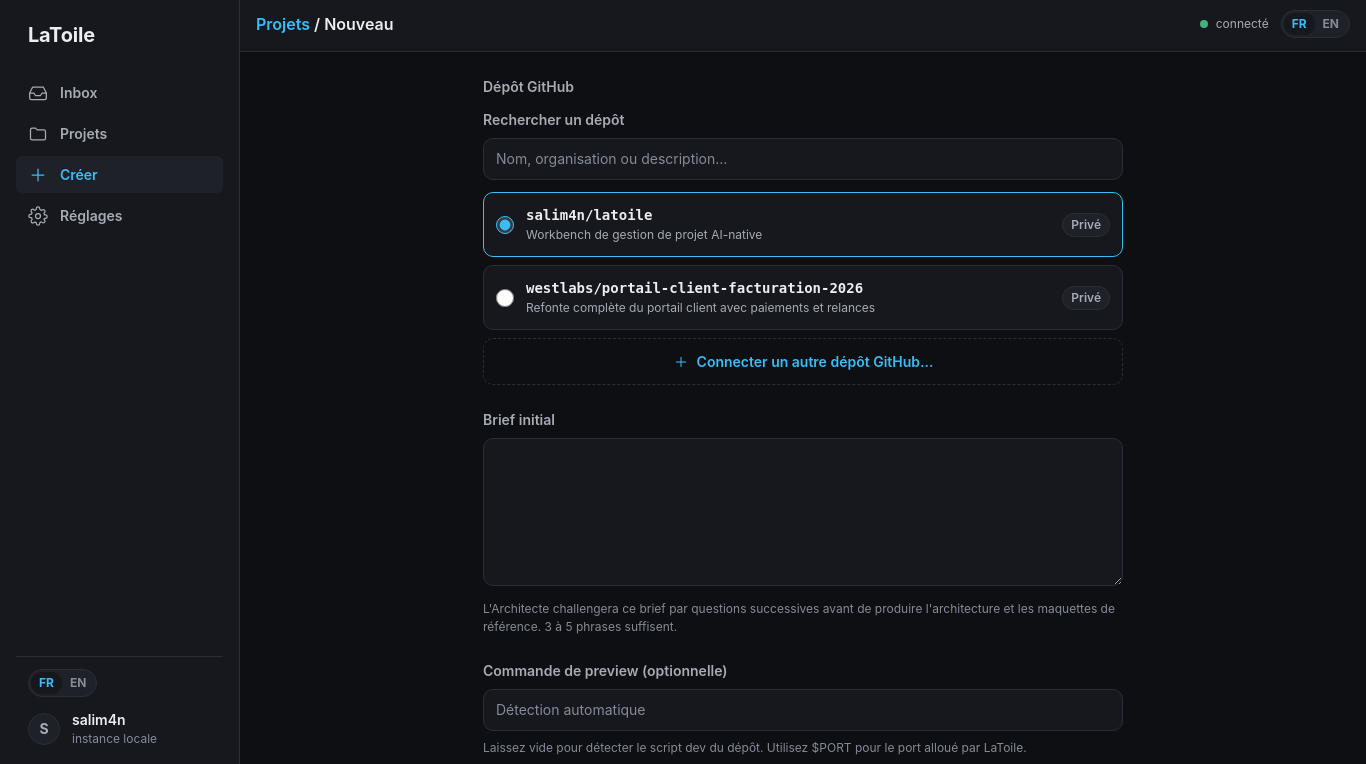
Test: NewProjectScreen visual contract › locks the fields and shows the sending state while creation is pending
Type "Construire une app mobile-first." into the text box labelled "Brief initial" at (803, 512), box [483,438,1123,586]
(page scrolled)
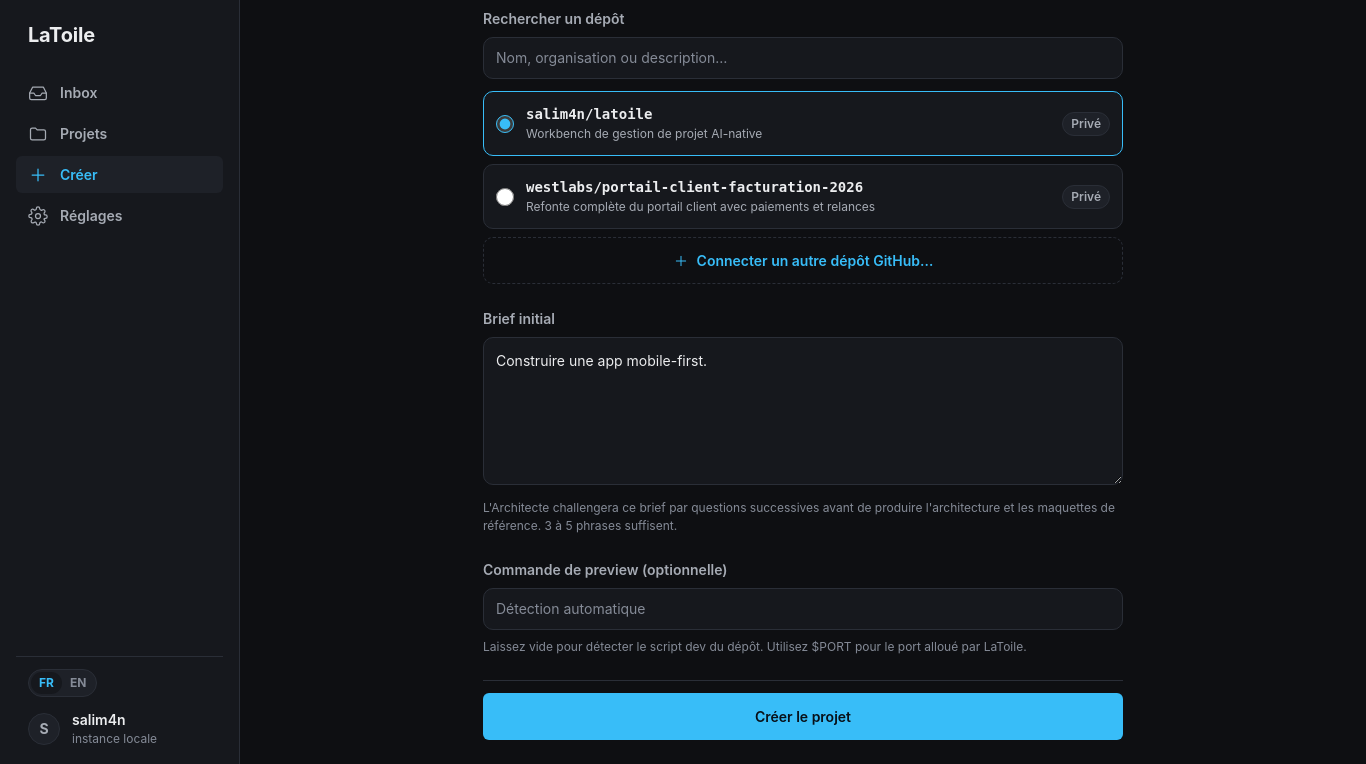
Click the button "Créer le projet" at (803, 716), box [483,693,1123,740]
(page scrolled)
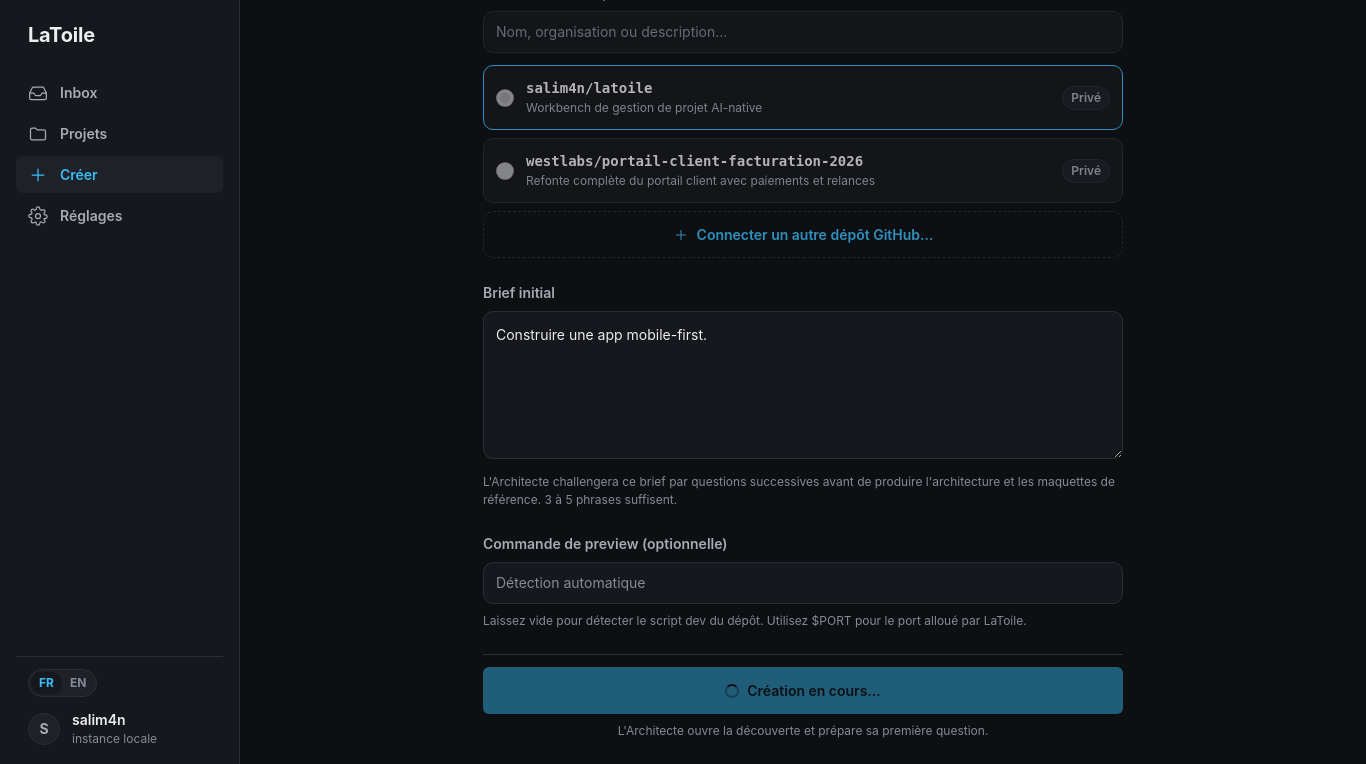
Check: the button "Création en cours…" is shown, box [483,667,1123,714]
Check: the text box labelled "Brief initial" is disabled, box [483,311,1123,459]
Check: the radio button labelled "salim4n/latoile" is disabled, box [496,88,514,106]
